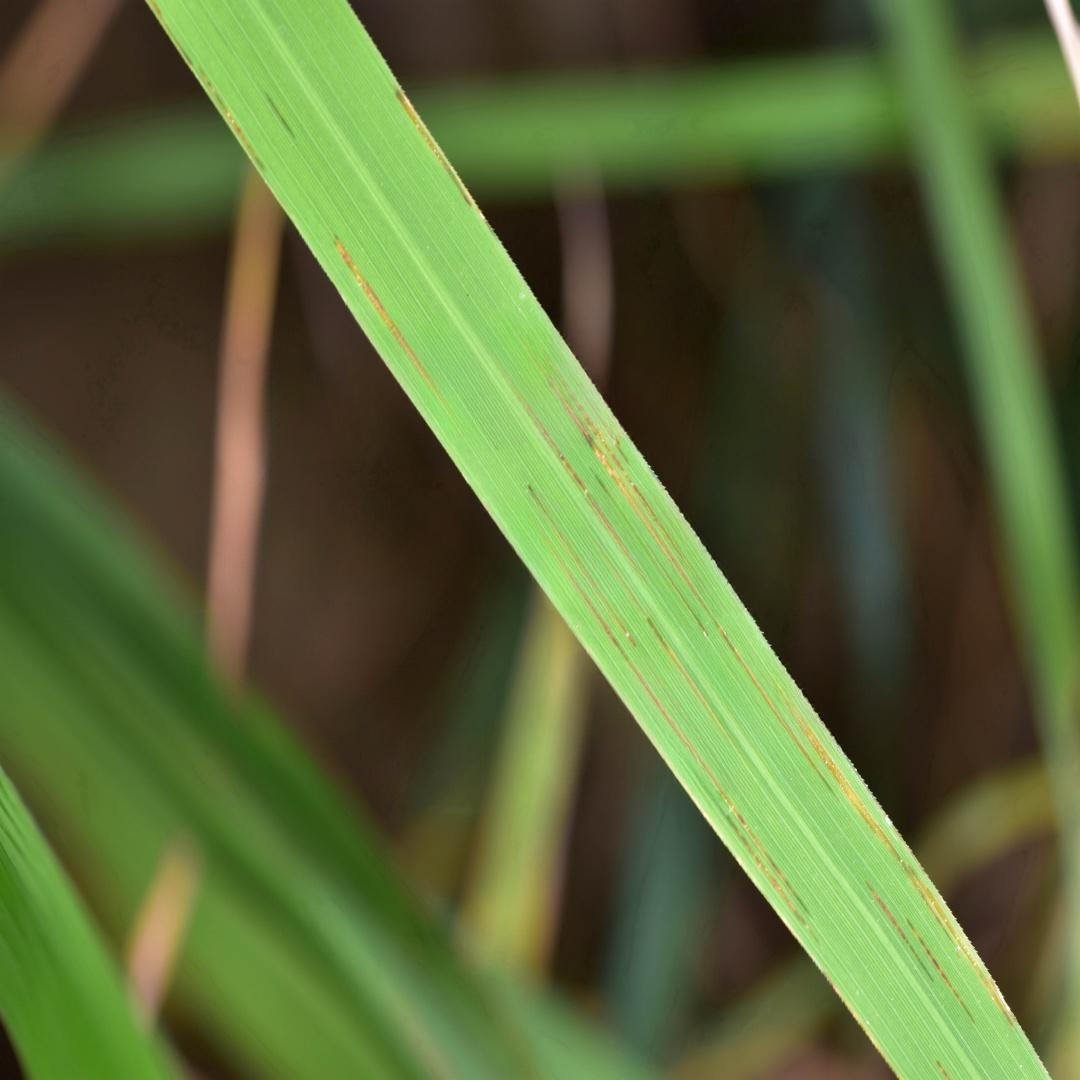BLS: (549, 382, 838, 801), (544, 535, 815, 918), (770, 673, 1023, 1030), (496, 367, 662, 609), (607, 560, 748, 767), (335, 237, 462, 430), (561, 384, 692, 571), (591, 472, 706, 635), (528, 486, 638, 647), (717, 807, 819, 945), (395, 87, 482, 217), (907, 918, 976, 1025), (866, 883, 935, 982), (200, 73, 260, 168), (148, 0, 194, 67)
